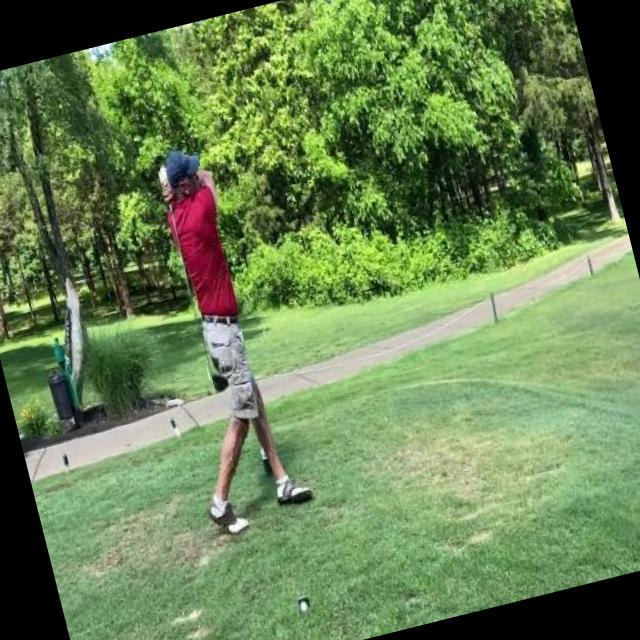club head: (207, 361, 230, 394)
